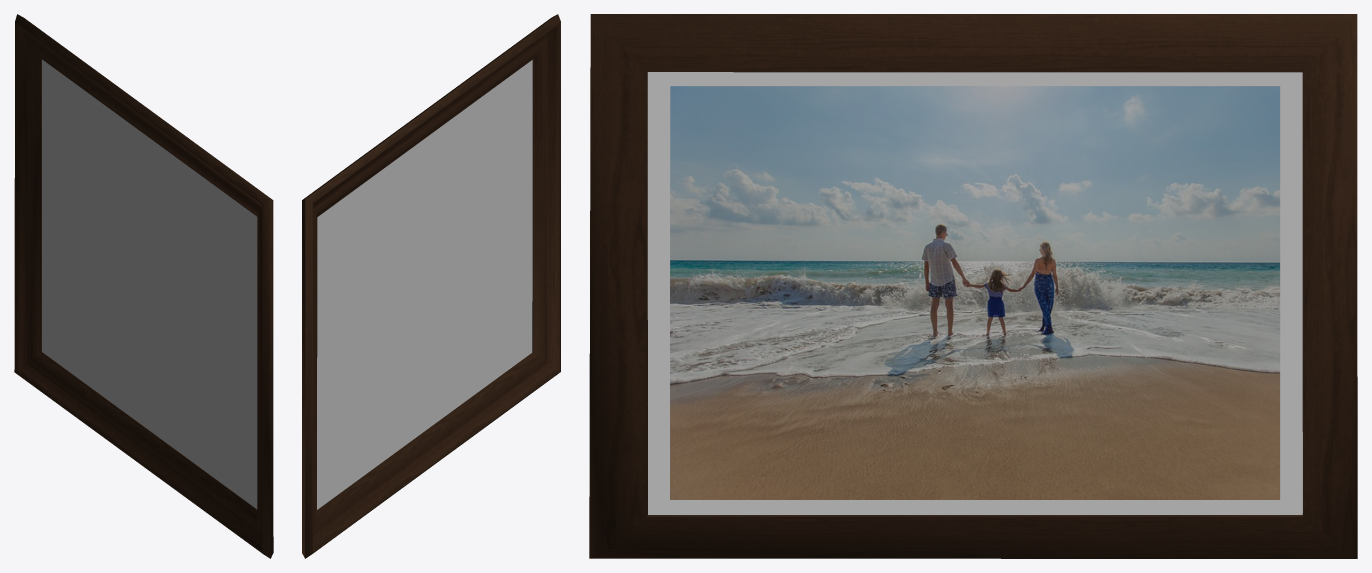
File: SM_Photo_A1.fbx
3 renders of one model, left to right at view 1: azimuth 30°, elevation 25°; view 2: azimuth 150°, elevation 25°; view 3: azimuth 270°, elevation 25°, orthographic. The views are drawn at different scales.
Visible parts, largest first — view 1: SM_Photo_A1; view 2: SM_Photo_A1; view 3: SM_Photo_A1.
Part boxes in pixels (<box>): SM_Photo_A1: <box>14,14,273,558</box>; SM_Photo_A1: <box>302,14,560,558</box>; SM_Photo_A1: <box>589,14,1357,558</box>.
Size of the model in its own units: 1.56 by 41.98 by 32.86.
Materials: 3 (2 with a texture image).
